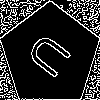U: (25, 30, 81, 87)
